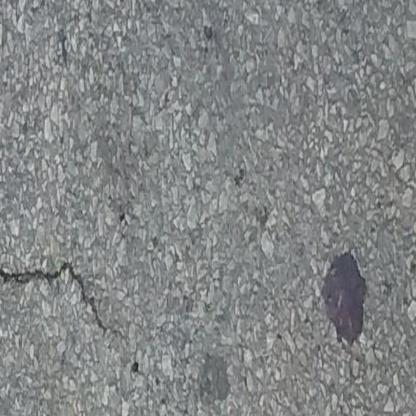Cracks: (0, 245, 131, 347)
